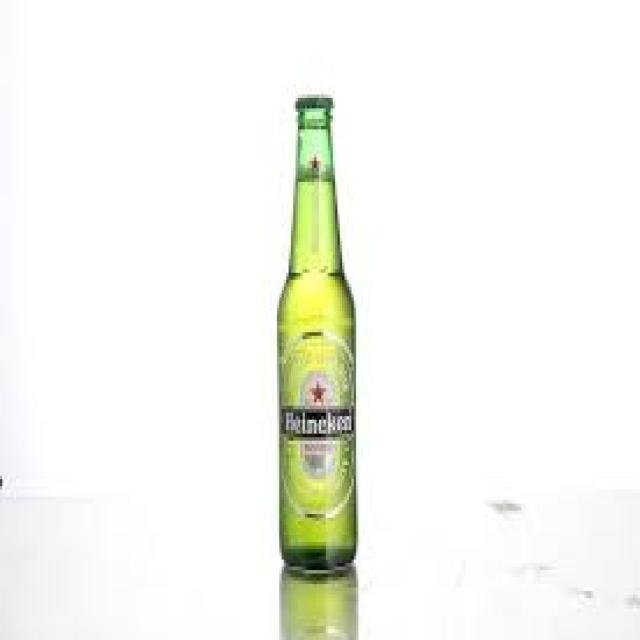glass: (275, 98, 356, 570)
metal: (293, 94, 328, 105)
